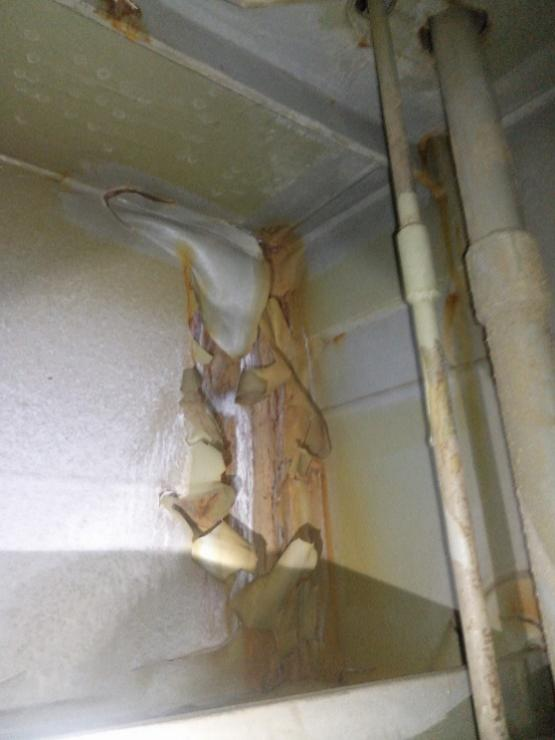corrosion: (164, 348, 350, 697), (244, 216, 323, 324), (480, 568, 544, 652), (96, 0, 166, 55), (172, 260, 217, 341), (411, 142, 465, 209), (437, 273, 474, 353)
